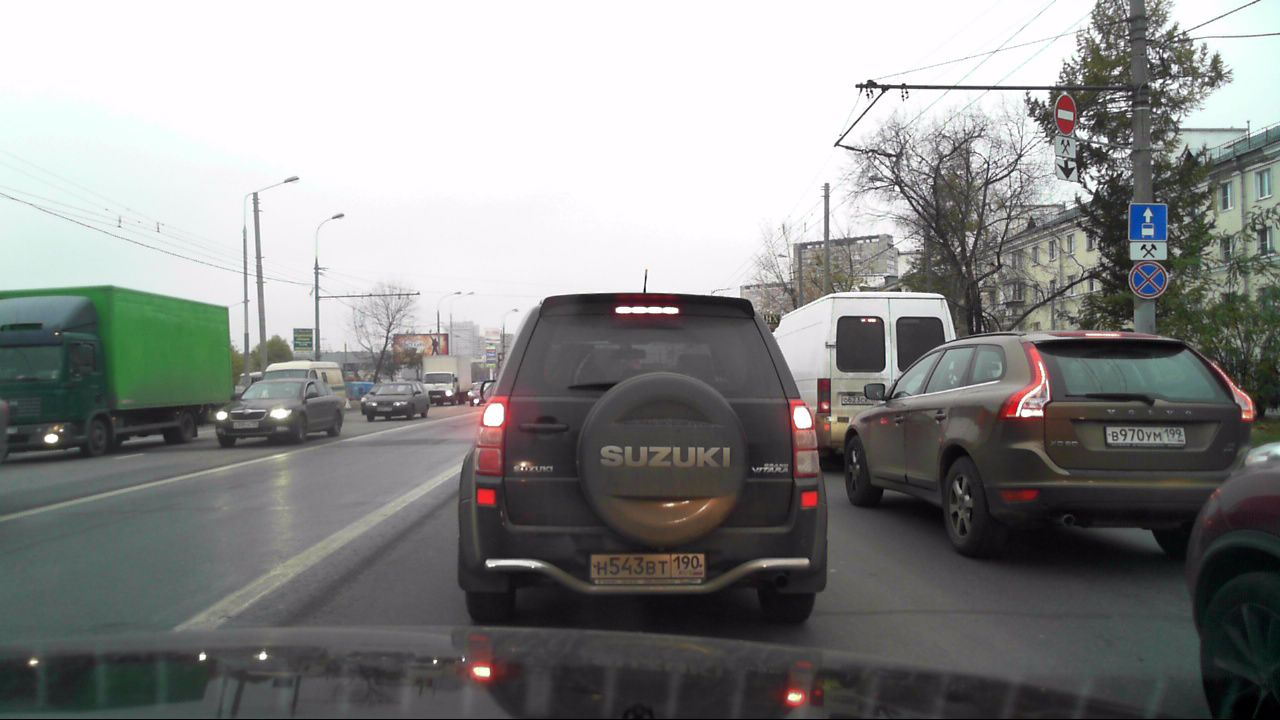No Parking: (1127, 261, 1169, 301)
